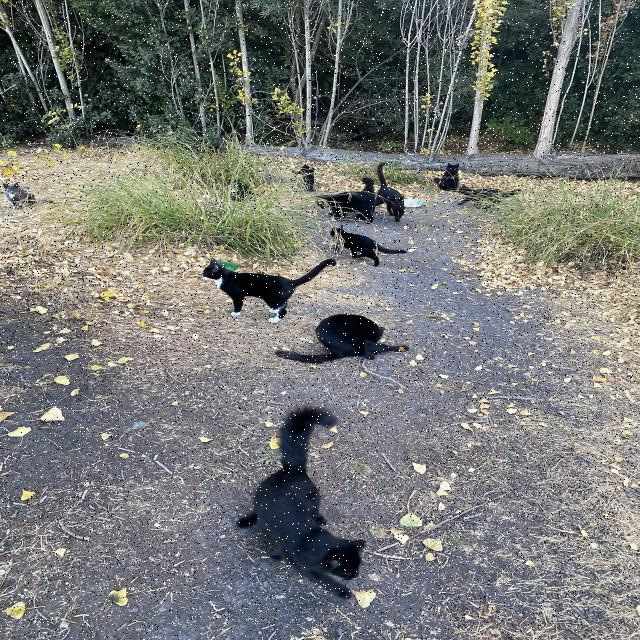cat: (237, 406, 365, 599), (203, 259, 337, 324), (277, 314, 410, 362), (330, 226, 407, 266), (317, 191, 377, 224), (377, 162, 405, 222), (2, 182, 37, 209), (433, 164, 458, 190), (297, 165, 315, 191), (230, 180, 252, 201)
